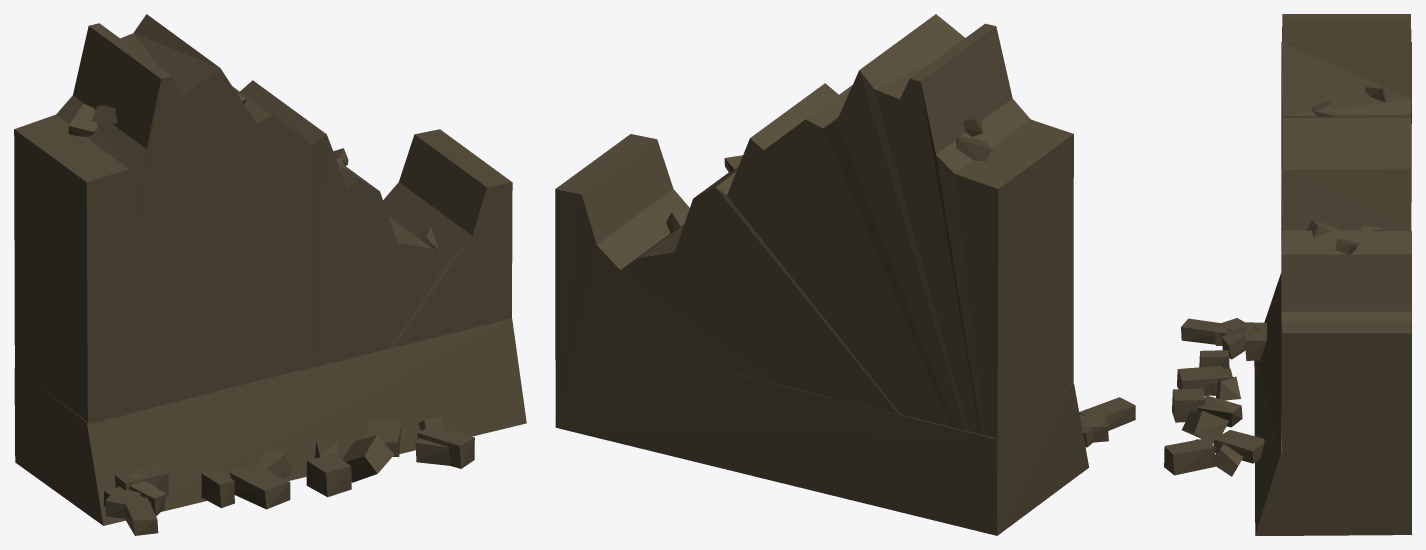
File: castle-wall-ruined-lod1.glb
The picture shows the model from 3 angles, left to right: view 1: azimuth 30°, elevation 25°; view 2: azimuth 150°, elevation 25°; view 3: azimuth 270°, elevation 25°; orthographic projection. The views are drawn at different scales.
Bounding box in the file's own units: 8.14 × 7.52 × 4.56.
